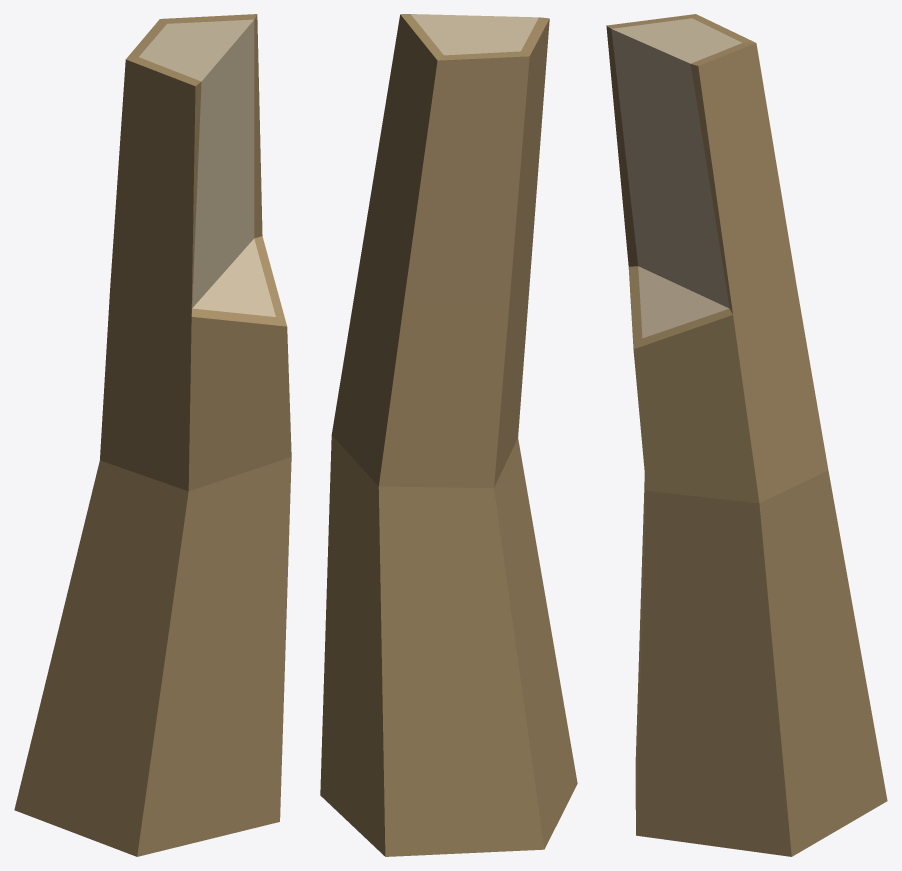
The model's file is Apple_Stump_01_LOD.fbx.
3 renders of one model, left to right at view 1: azimuth 30°, elevation 25°; view 2: azimuth 150°, elevation 25°; view 3: azimuth 270°, elevation 25°, orthographic. The views are drawn at different scales.
Visible parts, largest first — view 1: Apple_Stump_01_LOD0; view 2: Apple_Stump_01_LOD0; view 3: Apple_Stump_01_LOD0.
Part boxes in pixels (left/top/right/bottom): Apple_Stump_01_LOD0: left=14, top=14, right=291, bottom=856; Apple_Stump_01_LOD0: left=320, top=14, right=577, bottom=856; Apple_Stump_01_LOD0: left=606, top=14, right=887, bottom=856.
Size of what is drawn, in the model's own units: 44.49 by 141 by 46.39.
